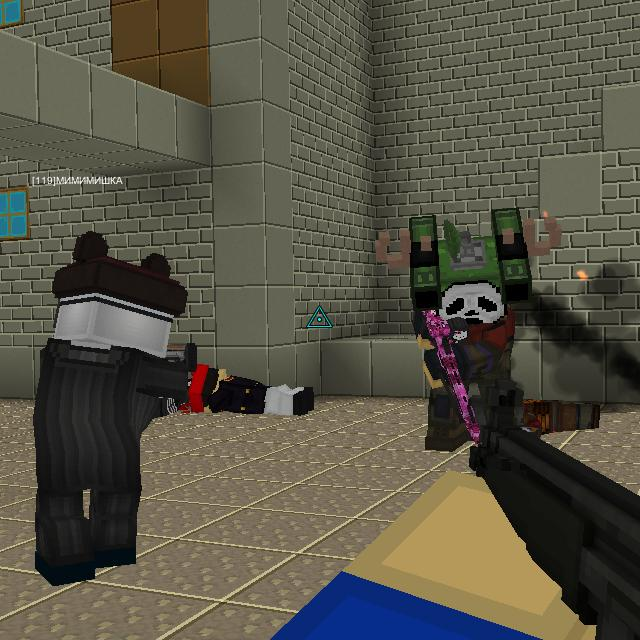enemy: (364, 204, 567, 452)
